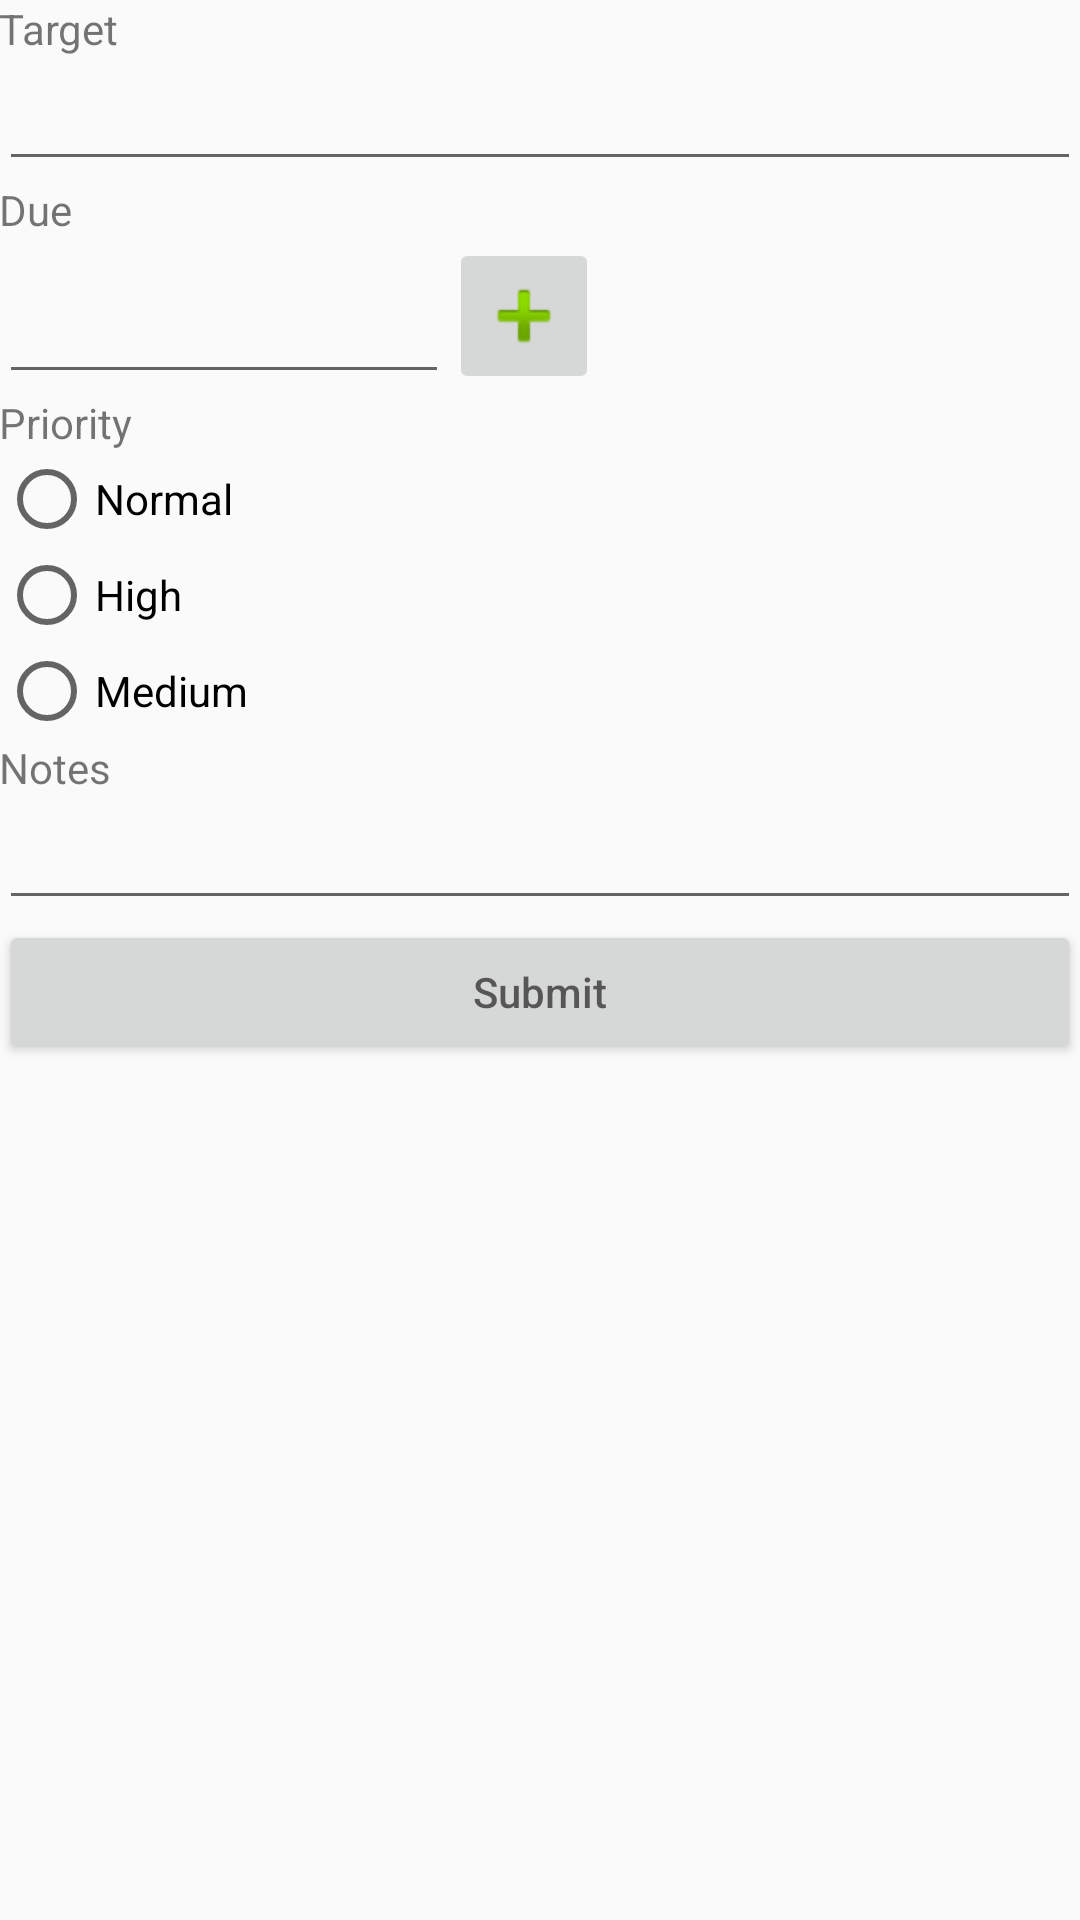

Icons on this 1080 × 1920 Android screen, each with the point to tap as point (x, y):
add: point (524, 316)
